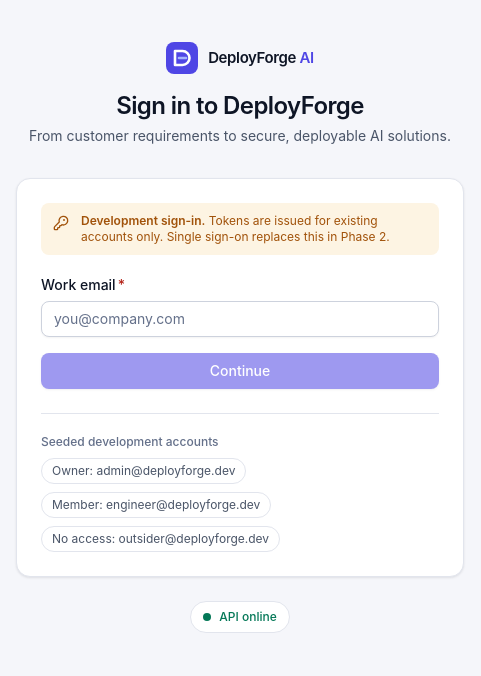
Test: application shell › reports when developer sign-in is disabled on the server
This screenshot has width=481, height=676.
Type "admin@deployforge.dev" into the field labelled "Work email*".
click(240, 318); type("admin@deployforge.dev")  # box [41, 300, 439, 336]
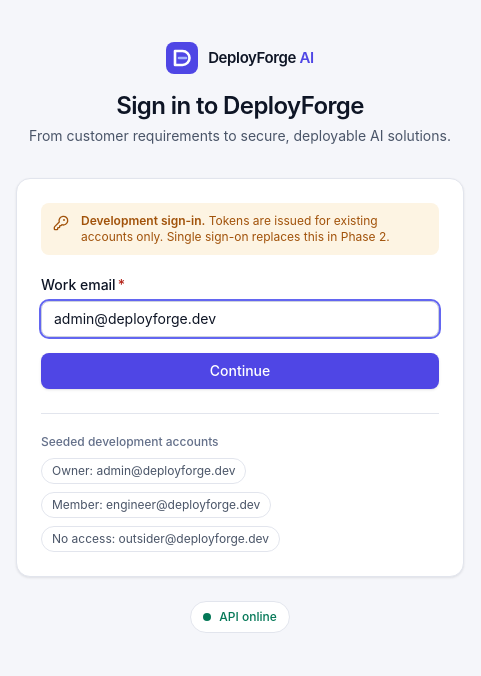
Click the button "Continue".
click(240, 370)  # box [41, 352, 439, 388]
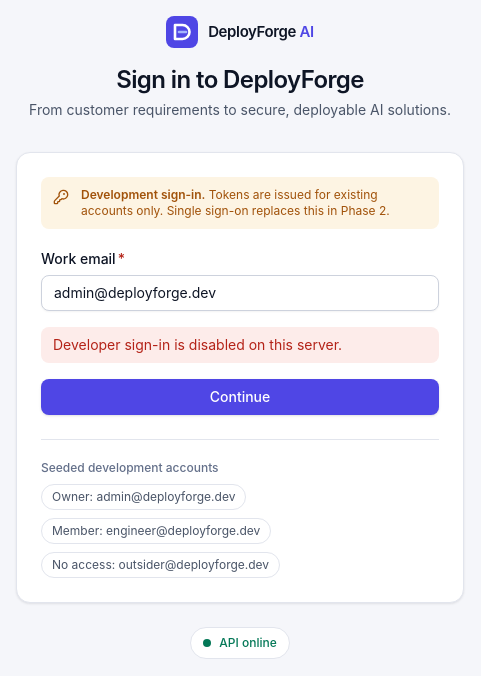
Expected: the message "Developer sign-in is disabled on this server." is shown, [41, 326, 439, 362]
